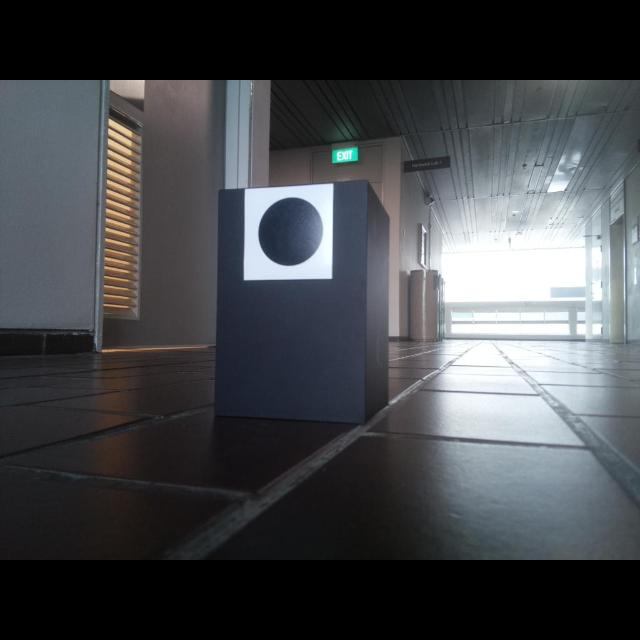CIRCLE: (256, 194, 328, 269)
